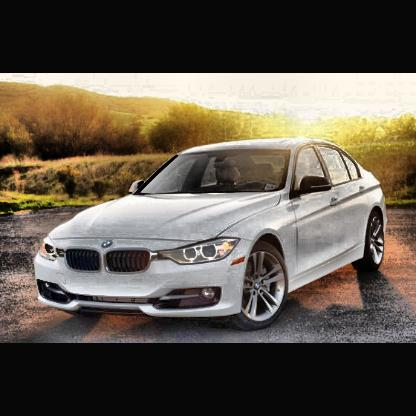BMW 3 Series Sedan 2012: (35, 138, 389, 331)
